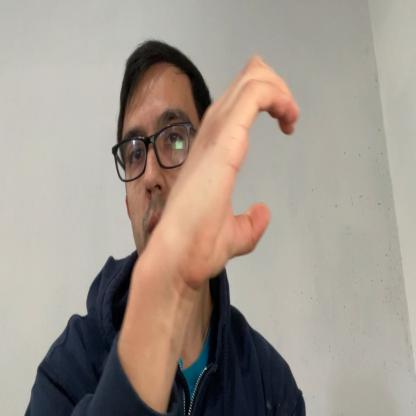C: (188, 53, 301, 278)
